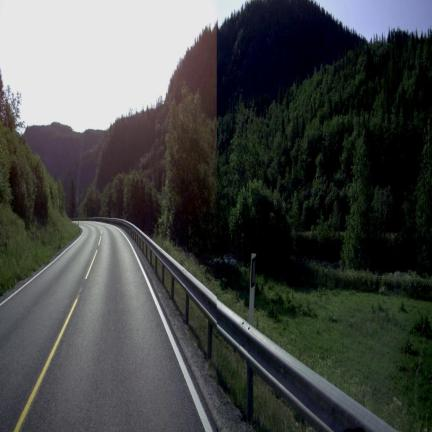Road: (0, 223, 210, 430)
